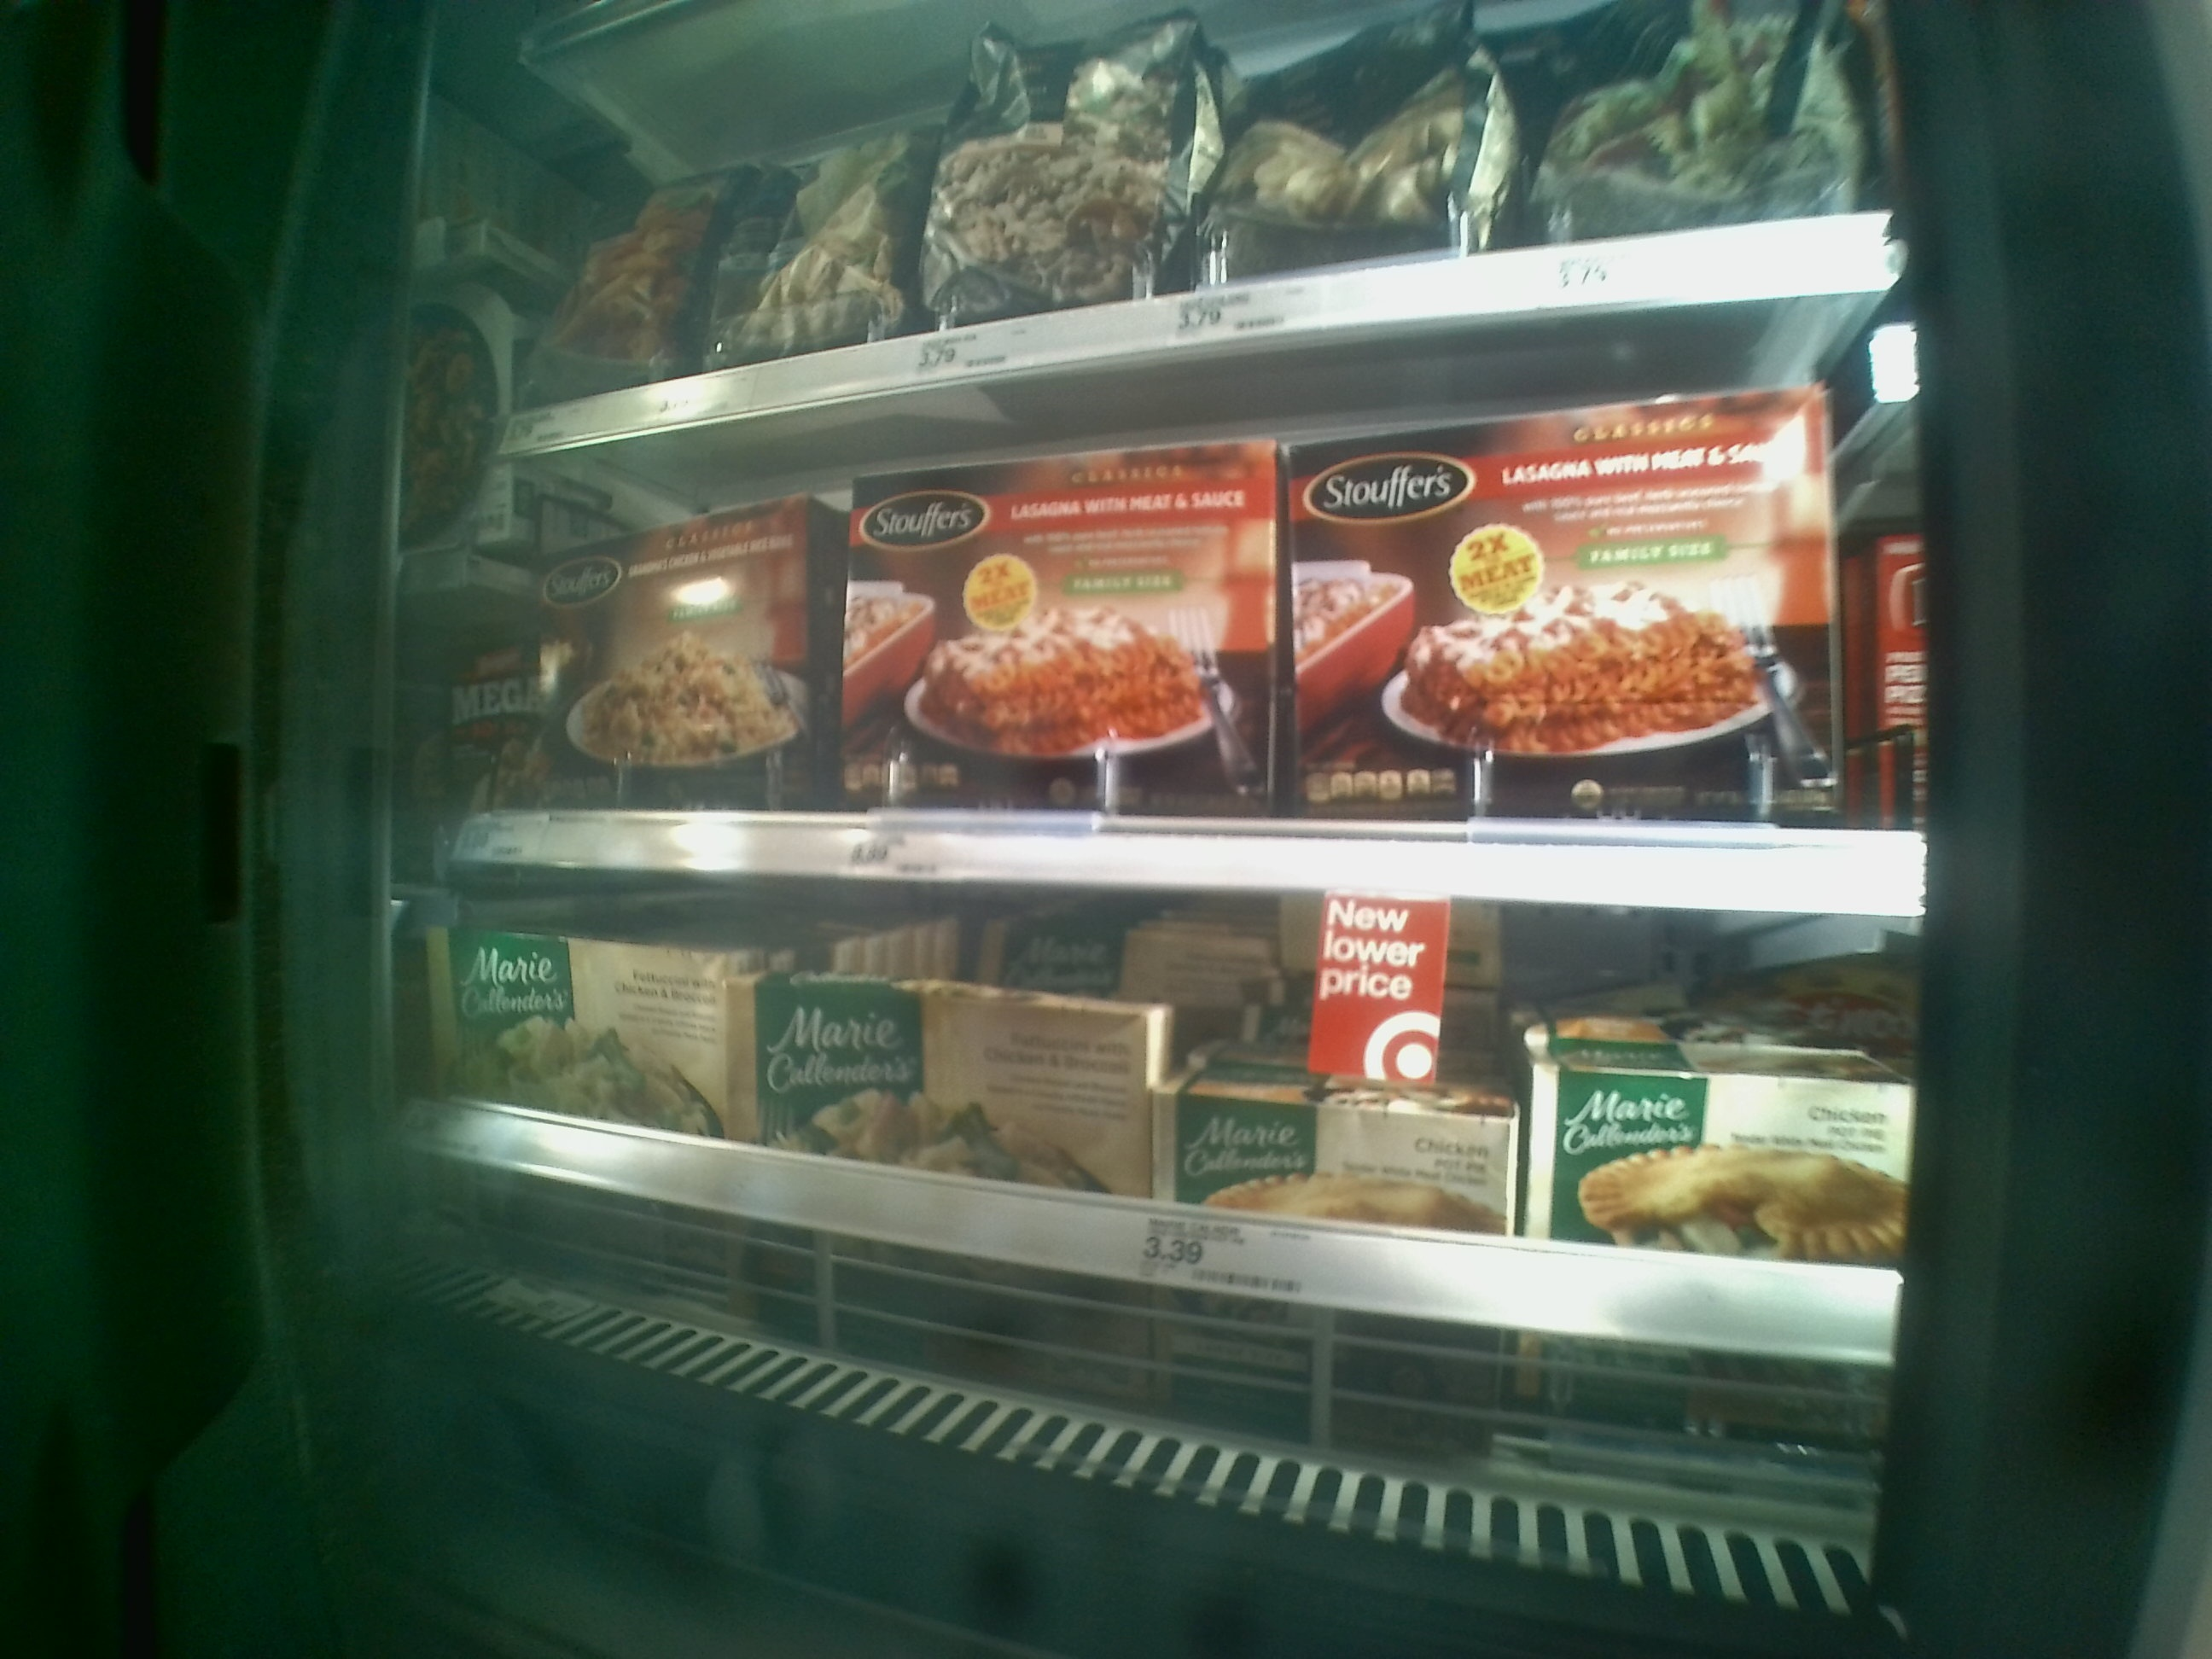shelf: (383, 864, 1928, 1532), (376, 288, 1919, 913)
